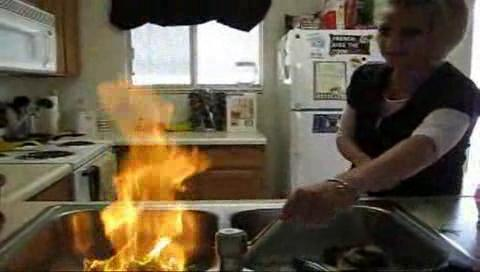fire: (0, 75, 218, 271), (72, 70, 209, 205)
